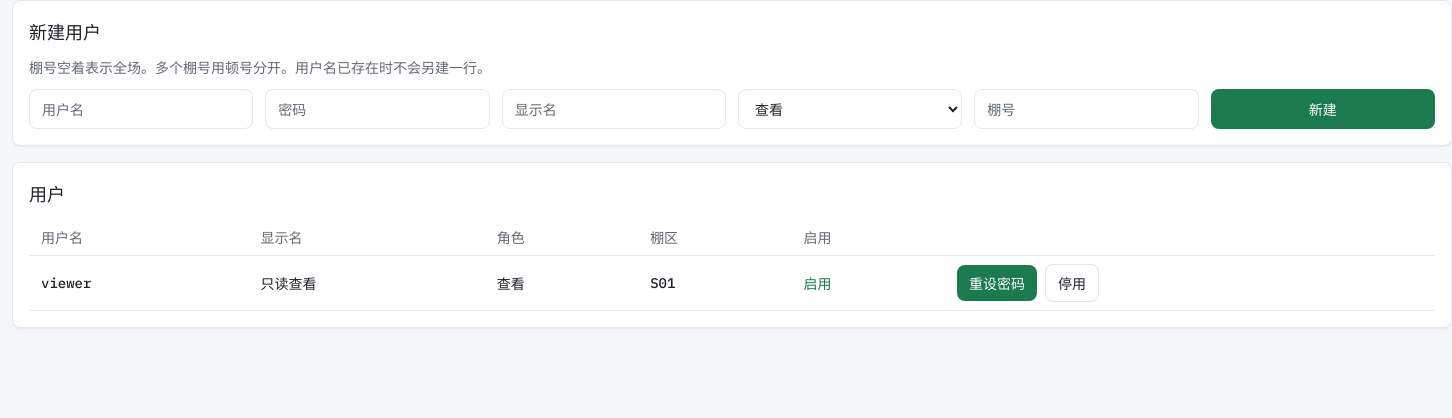
it: UsersView › resets an existing row with resetPassword and keeps that row without the new password
The image size is (1452, 418).
Click the button with aria-label "viewer 重设密码". click: (997, 283)
box: 957,265 -> 1037,301
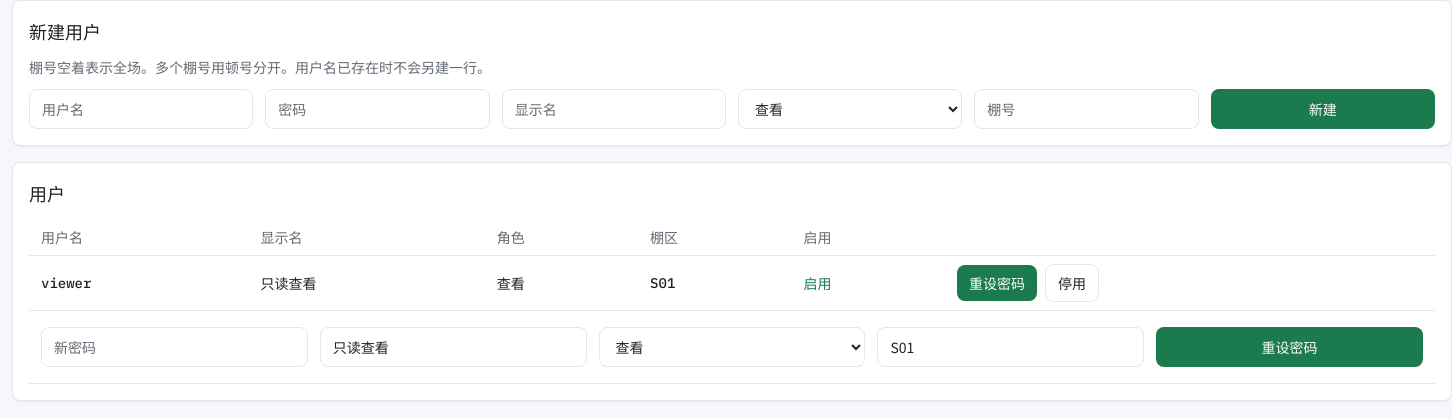
Type "ResetNew@123456" into the password field named "新密码". click: (174, 347)
box: 41,327 -> 308,367
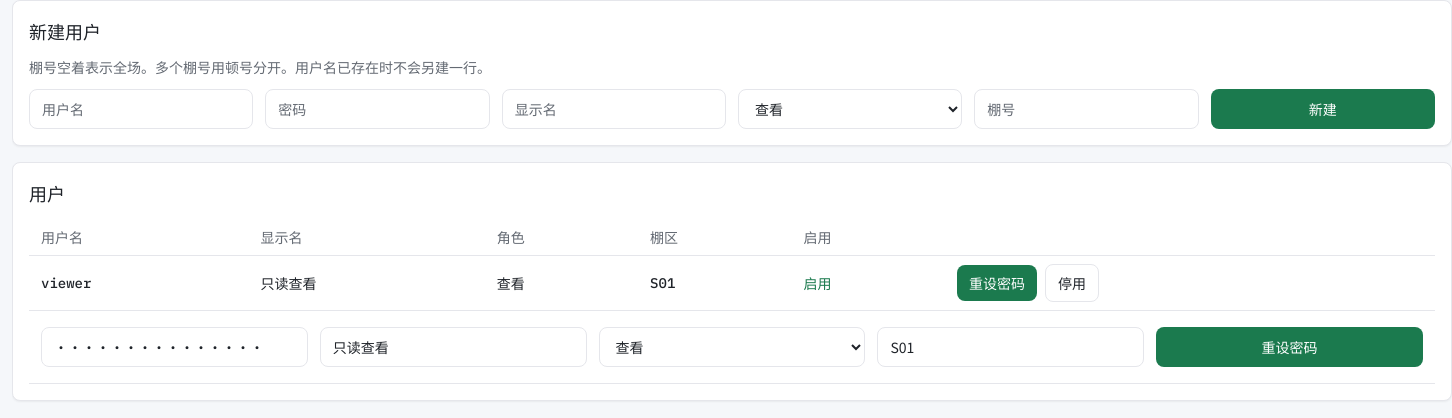
Replace the text in the field named "重设显示名" with "改名查看". click: (453, 347)
box: 320,327 -> 587,367
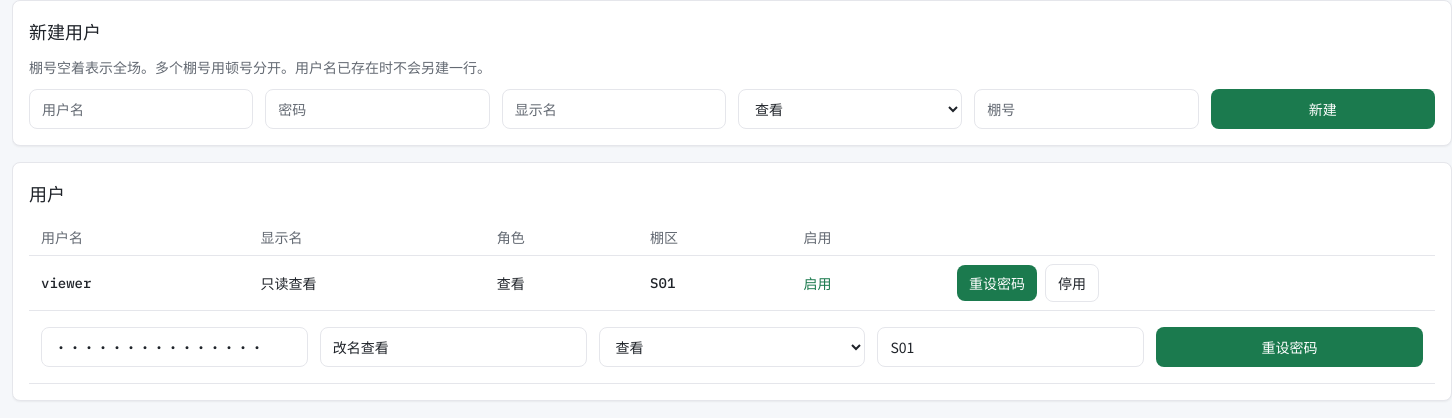
Select "棚区负责人" in the dropdown named "重设角色". click: (732, 347)
box: 599,327 -> 865,367
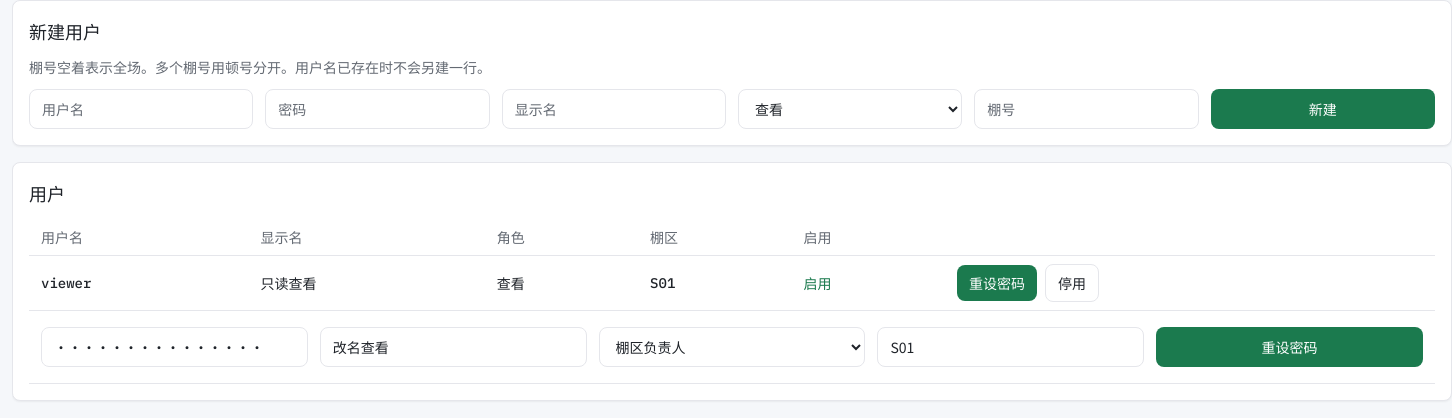
Replace the text in the field named "重设棚号" with "S03". click: (1011, 347)
box: 877,327 -> 1144,367
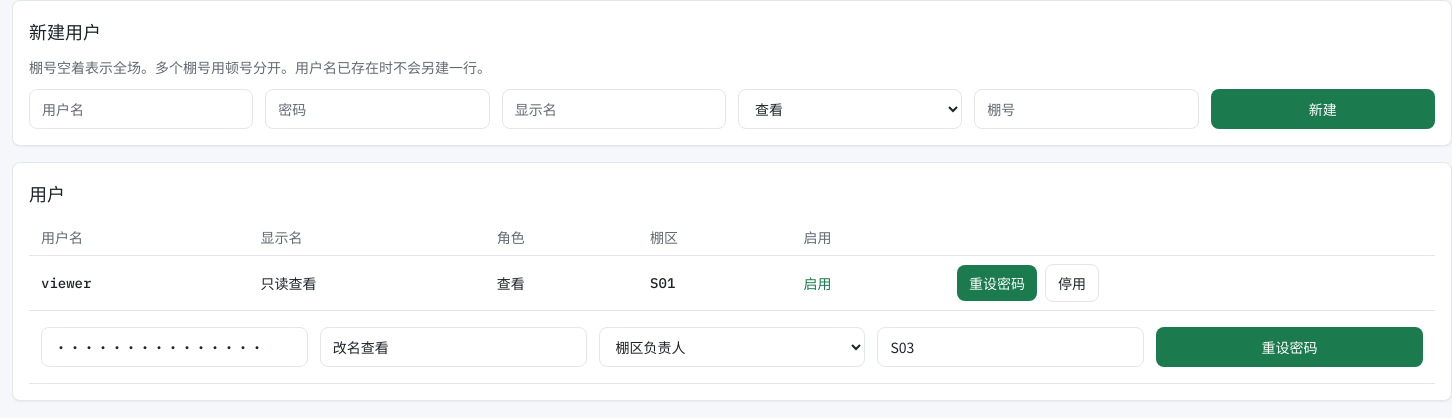
Submit the form with test id "user-reset-form", box 41,319 -> 1423,375
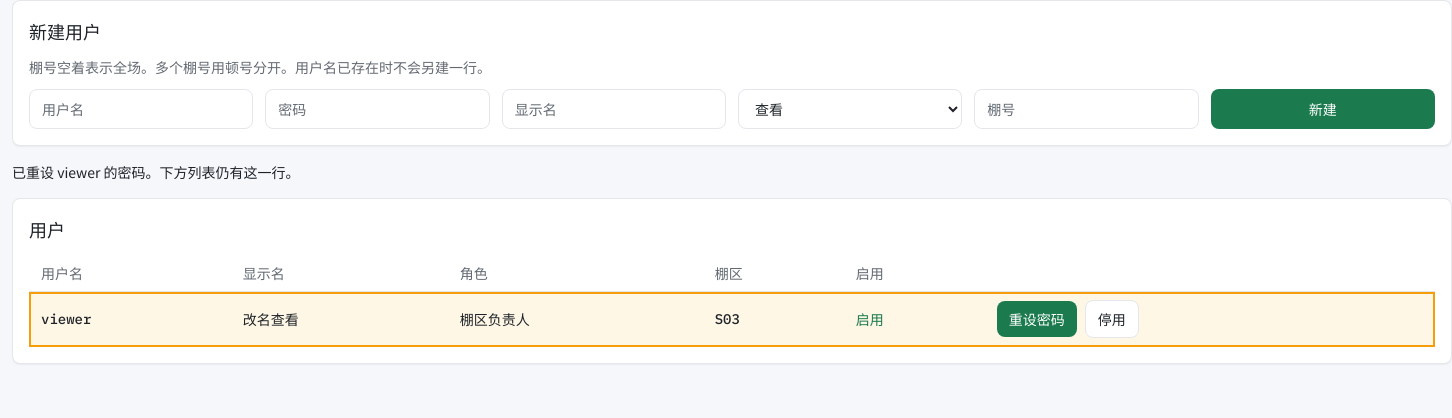
Now the text "改名查看" is shown, box 231,292 -> 448,346
Now the text "棚区负责人" is shown, box 448,292 -> 703,346
Now the text "S03" is shown, box 703,292 -> 844,346
